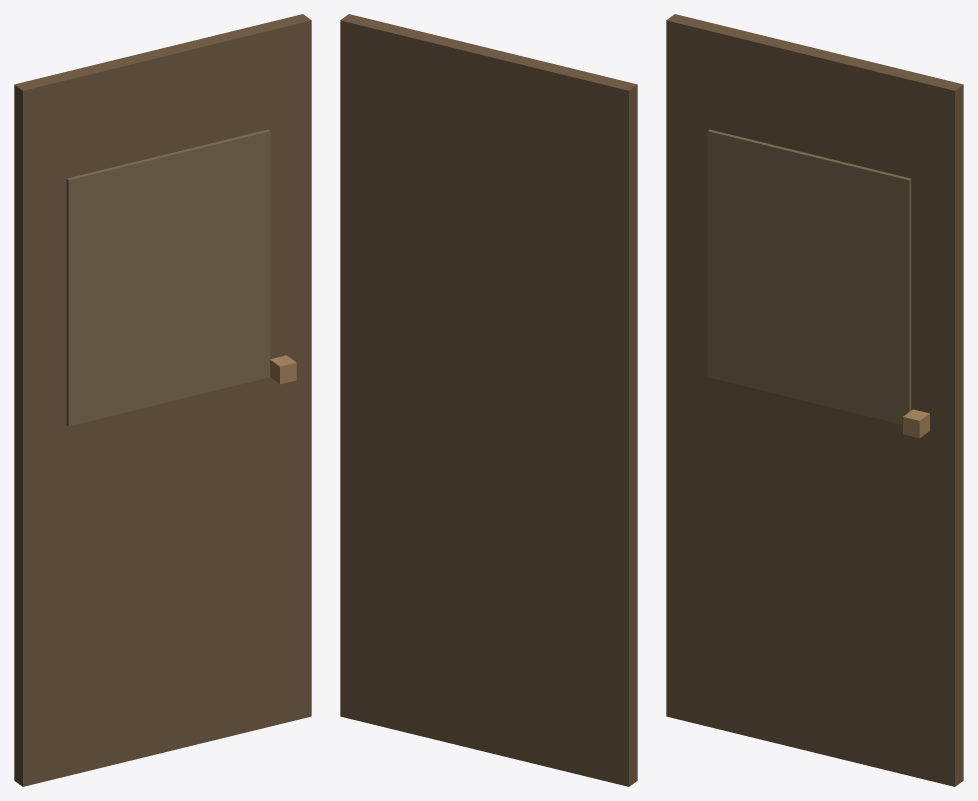
The model's file is leaf.glb.
3 views of the same model, side by side, from view 1: azimuth 30°, elevation 25°; view 2: azimuth 150°, elevation 25°; view 3: azimuth 330°, elevation 25° (orthographic).
Parts seen in each view (by area): view 1: door_leaf; view 2: door_leaf; view 3: door_leaf.
Part boxes in pixels (x1=…): door_leaf: x1=14, y1=14, x2=311, y2=786; door_leaf: x1=340, y1=14, x2=637, y2=786; door_leaf: x1=666, y1=14, x2=963, y2=786.
Size of the model in its own units: 0.86 by 1.98 by 0.0975.
